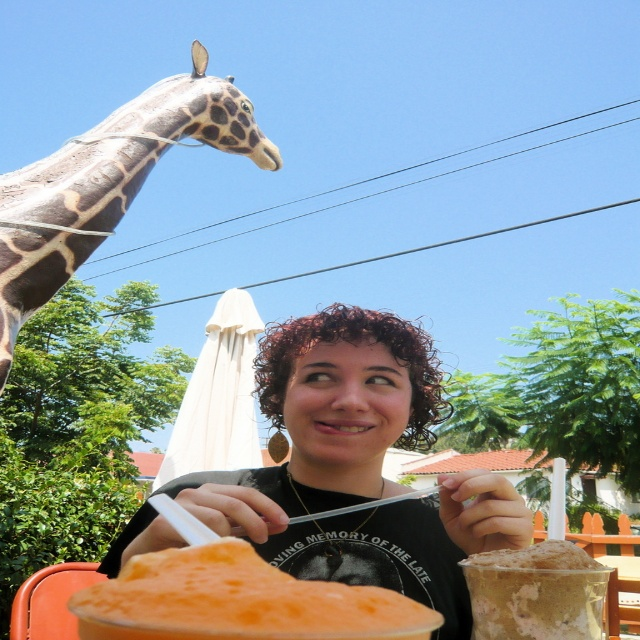Giraffe: (0, 33, 282, 397)
